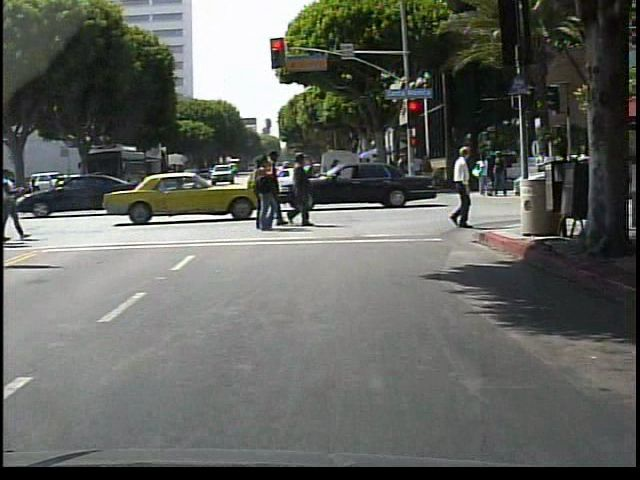person: (442, 142, 485, 234)
